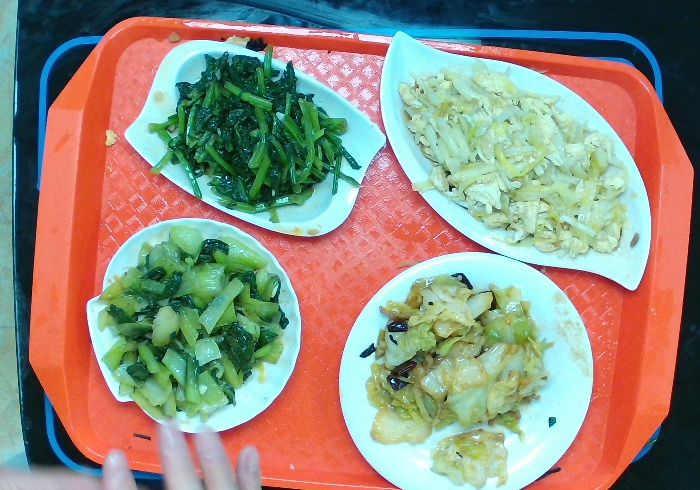RJxy-Bei_Ke_Wan: (83, 215, 307, 438)
RJxy-Jian_Jiao_Fang_Die: (120, 34, 392, 239)
RJxy-Jian_Jiao_Pan: (377, 27, 657, 298)
RJxy-Yuan_Pan: (336, 248, 600, 490)
